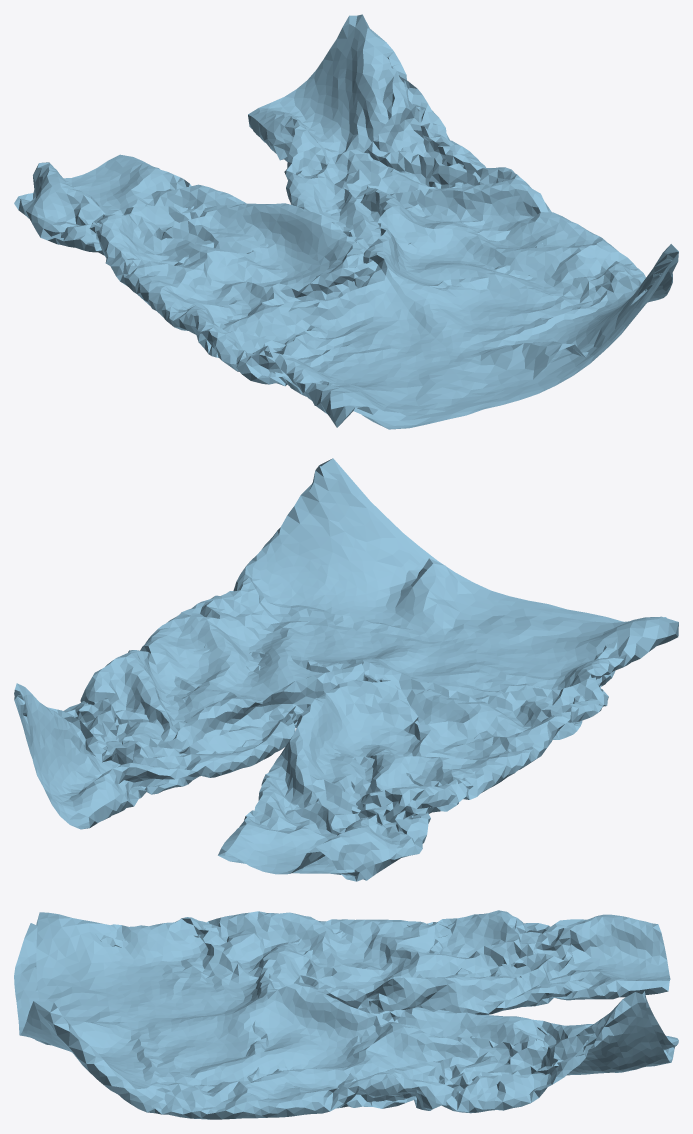
The model's file is frame_03.glb.
3 renders of one model, top to bottom at view 1: azimuth 30°, elevation 25°; view 2: azimuth 150°, elevation 25°; view 3: azimuth 270°, elevation 25°, orthographic. The views are drawn at different scales.
Visible parts, largest first — view 1: frame_03.obj; view 2: frame_03.obj; view 3: frame_03.obj.
Boxes of the visible parts, bbox=[...] form: frame_03.obj: bbox=[14, 14, 678, 429]; frame_03.obj: bbox=[14, 458, 678, 881]; frame_03.obj: bbox=[14, 910, 678, 1119].
Bounding box in the file's own units: 1.2 × 0.322 × 1.76.
